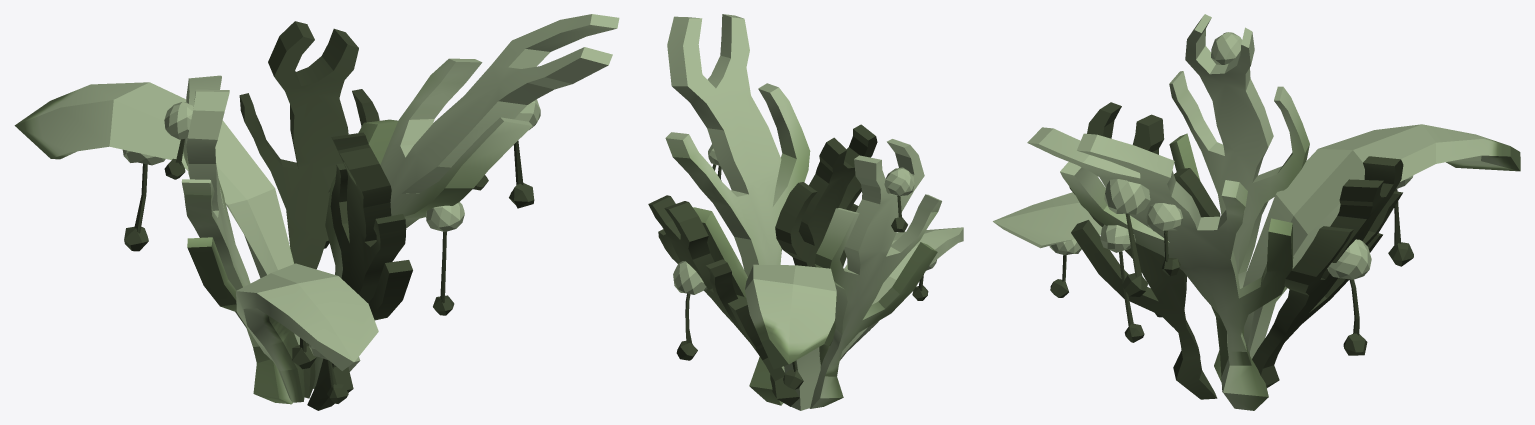
Rendered from EA_Swamp_LeafFruits_01a.glb.
3 views of the same model, side by side, from view 1: azimuth 30°, elevation 25°; view 2: azimuth 150°, elevation 25°; view 3: azimuth 270°, elevation 25° (orthographic). The views are drawn at different scales.
Parts seen in each view (by area): view 1: EA_Swamp_LeafFruits_01a; view 2: EA_Swamp_LeafFruits_01a; view 3: EA_Swamp_LeafFruits_01a.
Part boxes in pixels (x1,y1,x2,y2): EA_Swamp_LeafFruits_01a: [14, 14, 619, 410]; EA_Swamp_LeafFruits_01a: [648, 14, 963, 410]; EA_Swamp_LeafFruits_01a: [993, 14, 1520, 410].
Size of the model in its own units: 2.29 by 2.16 by 2.86.
Materials: 1 (1 with a texture image).
